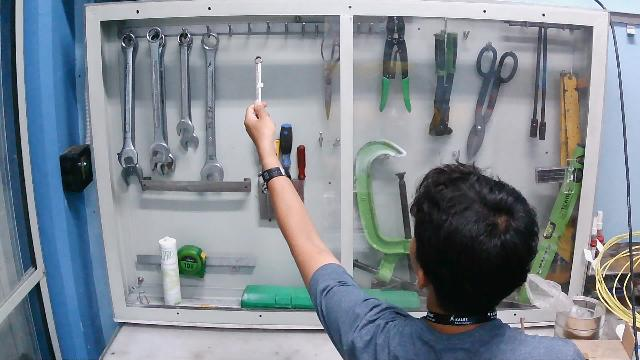kunci_pass_13: (231, 20, 289, 158)
